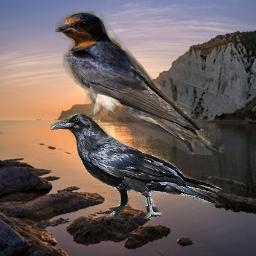Crow: (50, 113, 228, 222)
Swallow: (55, 11, 227, 159)
